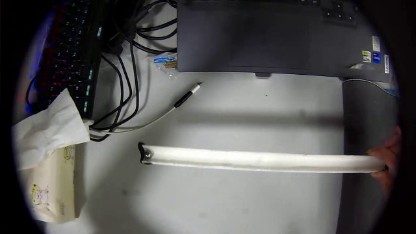gangzhu: (142, 149, 154, 158)
